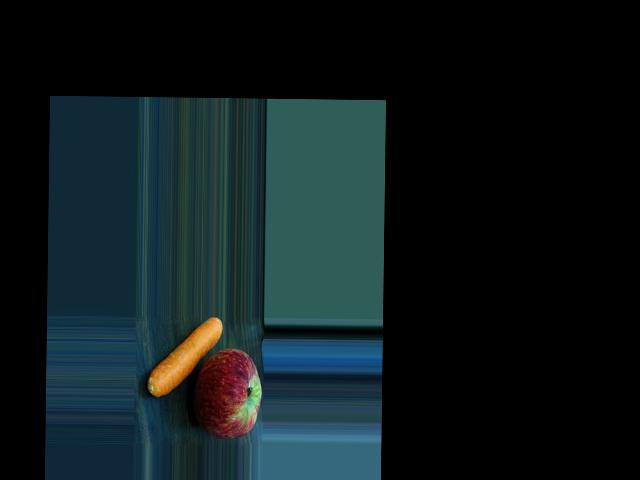carrot: (145, 315, 223, 398)
